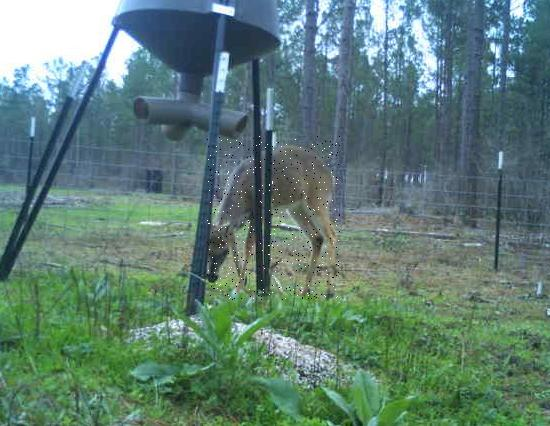Deer: (207, 136, 340, 300)
